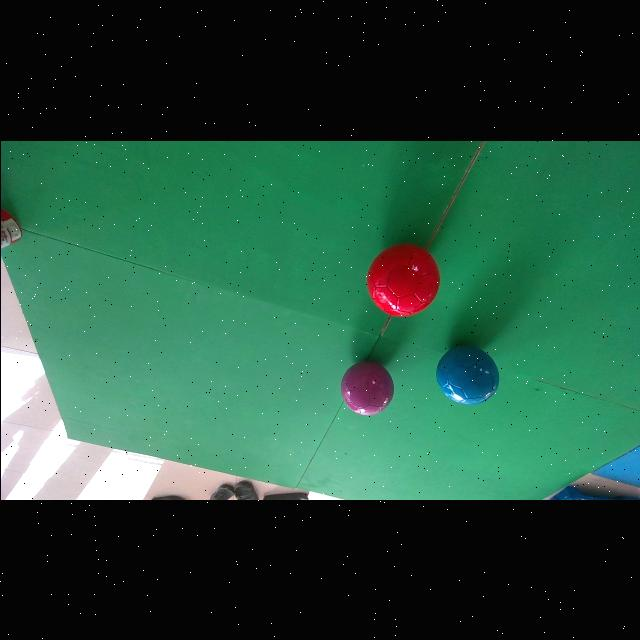B: (435, 345, 498, 405)
P: (340, 361, 393, 415)
R: (367, 244, 439, 316)
